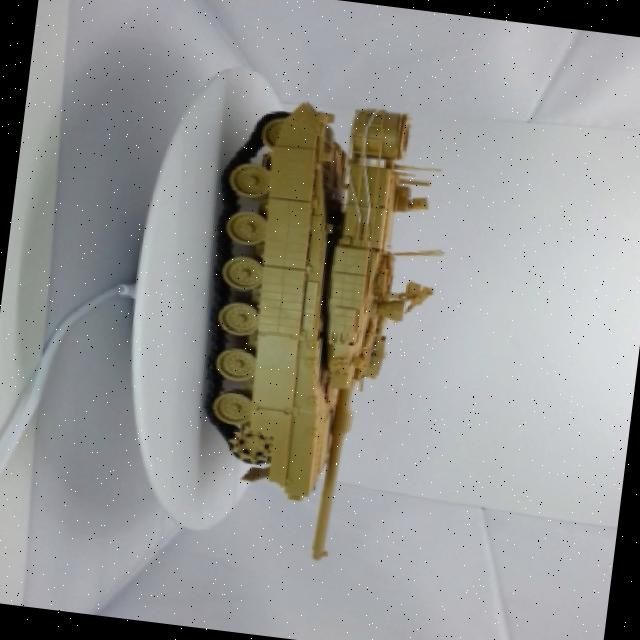korea tank: (157, 82, 476, 582)
